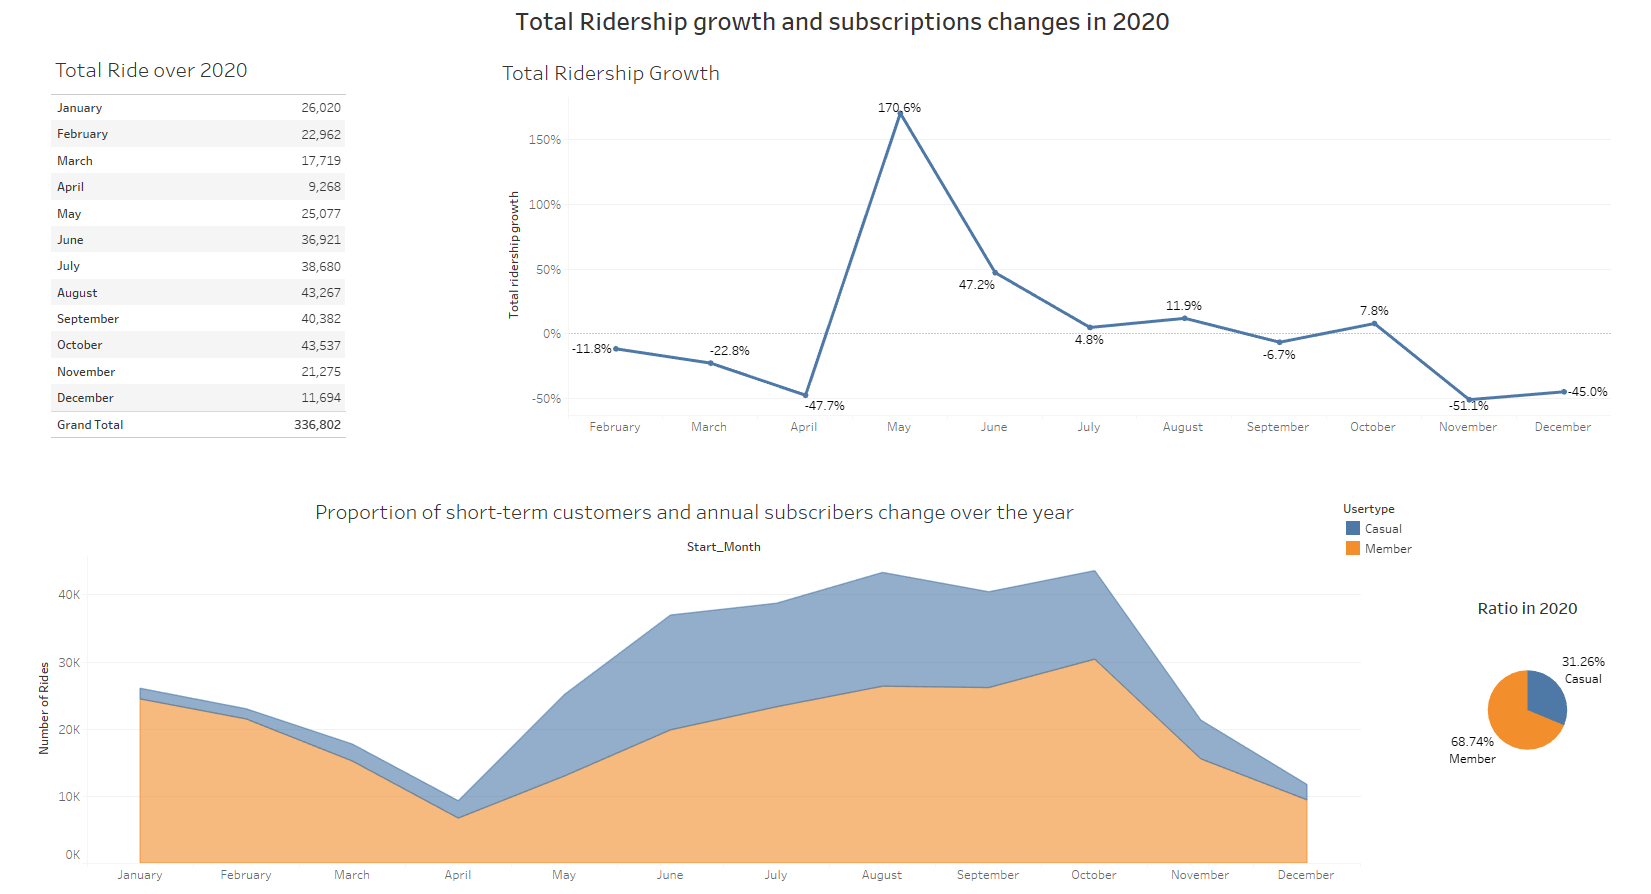

What the dashboard file says about the page in this screenshot:
{"tool":"tableau","page":{"name":"Dashboard Total Rideship growth and subscription changes in 2020","canvas":[1000,1000],"units":"permille","ordinal":3},"visuals":[{"type":"title","box":[4.8,9.3,990.3,58.1]},{"type":"worksheet","title":"Total Ridership Growth","mark":"Line","rows":["Calculation_1757248280959762432"],"cols":["starttime"],"box":[284.9,79,651.2,421.6]},{"type":"worksheet","title":"Total Trip Recorded over 2020","mark":"Automatic","rows":["starttime"],"box":[45.9,89.4,172.6,428.6]},{"type":"worksheet","title":"Proportion of short-term customers and annual subscribers change over the year ","mark":"Area","rows":["Calculation_1757248280959762432"],"cols":["starttime"],"box":[3.6,547,776.7,449.5]},{"type":"legend","title":"Proportion of short-term customers and annual subscribers change over the year ","param":"[federated.09impmv1rgf8k6130ey5n1y0aig7].[none:usertype:nk]","box":[797.2,548.2,85.1,112.7]}]}

Visuals, with their boxes on the dashboard's canvas, which has no fixed pixel size, in thousandths of its width and height (x1, y1, x2, y2). These are canvas units, not pixel positions in the 1651x894 screenshot, which may show the page scaled, cropped or inside an application window:
title: (x1=5, y1=9, x2=995, y2=67)
"Total Ridership Growth" worksheet (Line marks): (x1=285, y1=79, x2=936, y2=501)
"Total Trip Recorded over 2020" worksheet: (x1=46, y1=89, x2=218, y2=518)
"Proportion of short-term customers and annual subscribers change over the year " worksheet (Area marks): (x1=4, y1=547, x2=780, y2=996)
"Proportion of short-term customers and annual subscribers change over the year " legend: (x1=797, y1=548, x2=882, y2=661)
